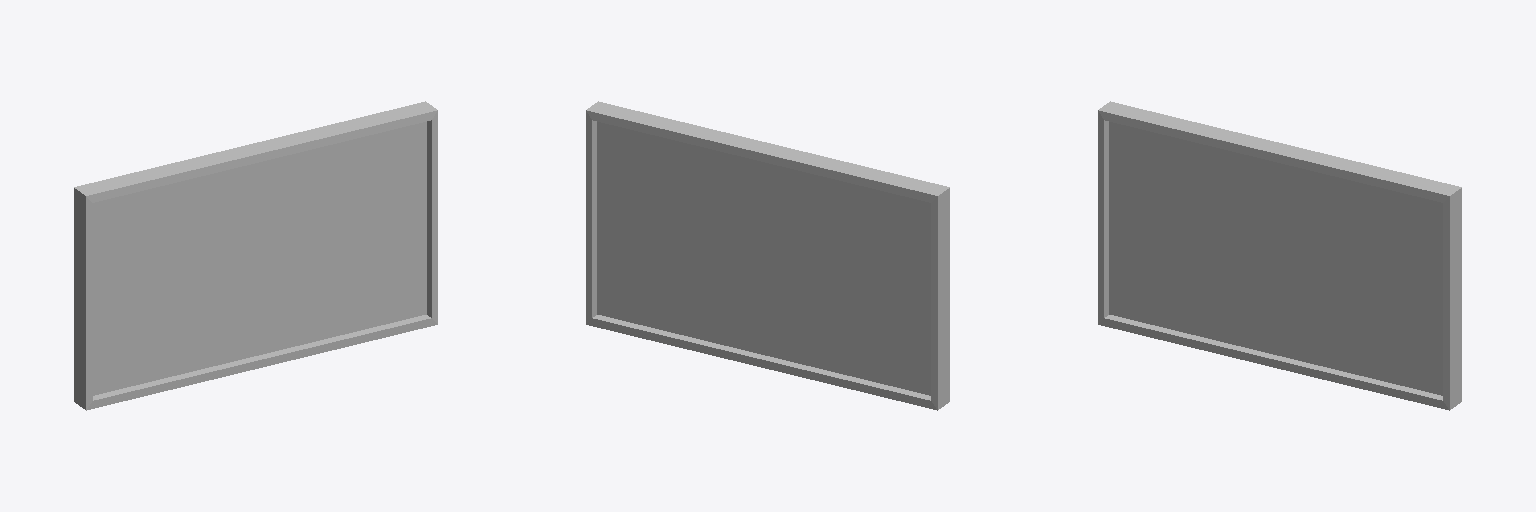
Rendered from doorGate.obj.
The picture shows the model from 3 angles: view 1: azimuth 30°, elevation 25°; view 2: azimuth 150°, elevation 25°; view 3: azimuth 330°, elevation 25°; orthographic projection.
Parts seen in each view (by area): view 1: gateDoor; view 2: gateDoor; view 3: gateDoor.
Boxes of the visible parts, <box> form: gateDoor: <box>74,101,437,410</box>; gateDoor: <box>586,101,949,410</box>; gateDoor: <box>1098,101,1461,410</box>.
Size of the model in its own units: 4.04 by 2.35 by 0.2497.